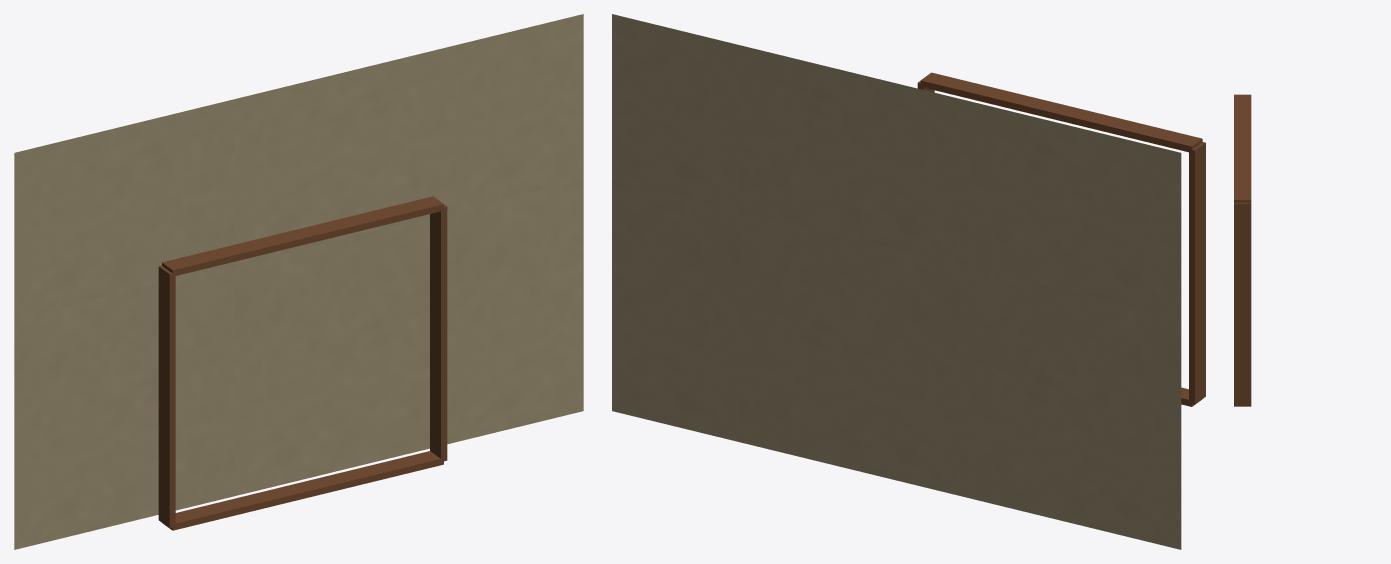
File: table-support.glb
3 views of the same model, side by side, from view 1: azimuth 30°, elevation 25°; view 2: azimuth 150°, elevation 25°; view 3: azimuth 270°, elevation 25° (orthographic). The views are drawn at different scales.
Visible parts, largest first — view 1: LocalHiddenFloorCompletion, UndersideApron_1, UndersideApron_0, UndersideApron_2, UndersideApron_3; view 2: LocalHiddenFloorCompletion, UndersideApron_1, UndersideApron_2; view 3: UndersideApron_3, UndersideApron_1.
Boxes of the visible parts, x1=… form: LocalHiddenFloorCompletion: x1=14, y1=14, x2=583, y2=549; UndersideApron_1: x1=162, y1=196, x2=443, y2=276; UndersideApron_0: x1=162, y1=451, x2=443, y2=530; UndersideApron_2: x1=158, y1=265, x2=175, y2=528; UndersideApron_3: x1=430, y1=204, x2=447, y2=461; LocalHiddenFloorCompletion: x1=612, y1=14, x2=1181, y2=549; UndersideApron_1: x1=920, y1=72, x2=1202, y2=152; UndersideApron_2: x1=1189, y1=142, x2=1205, y2=404; UndersideApron_3: x1=1234, y1=202, x2=1251, y2=405; UndersideApron_1: x1=1234, y1=94, x2=1251, y2=202.
Size of the model in its own units: 2.58 by 1.72 by 0.706.
Materials: 2 (1 with a texture image).
